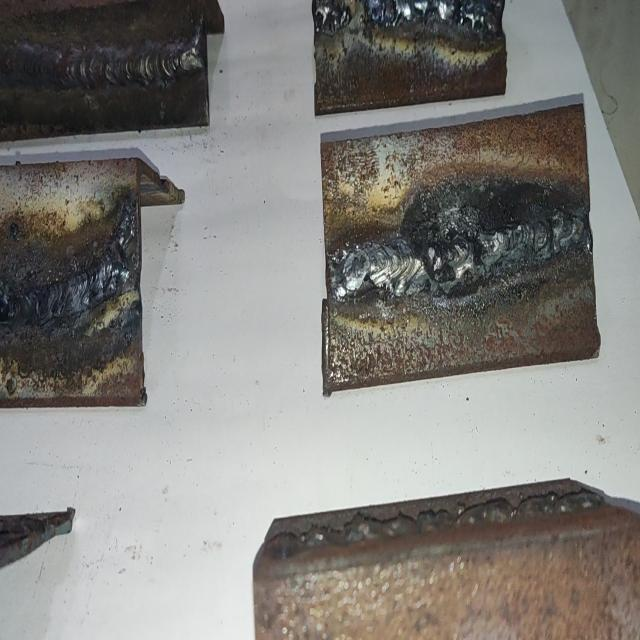Bad Weld: (334, 202, 587, 298), (0, 244, 134, 340)
Defect: (428, 185, 487, 314), (110, 192, 139, 292)
Good Weld: (0, 36, 205, 88), (314, 1, 503, 34)
